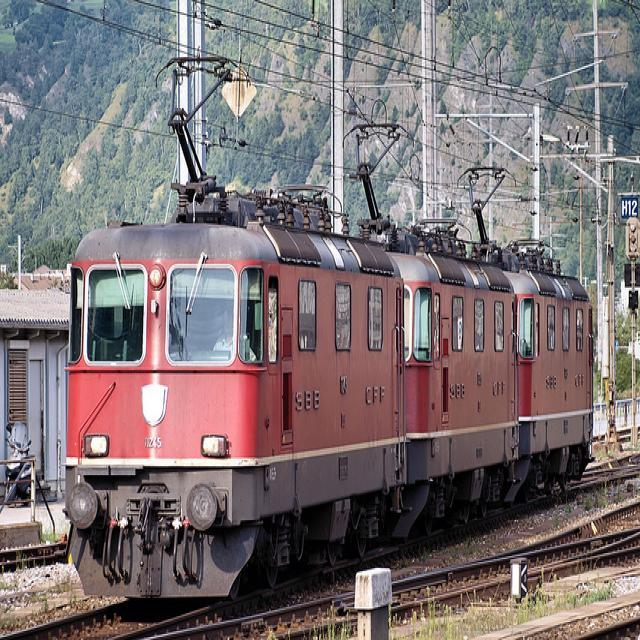motor: (4, 421, 35, 507)
